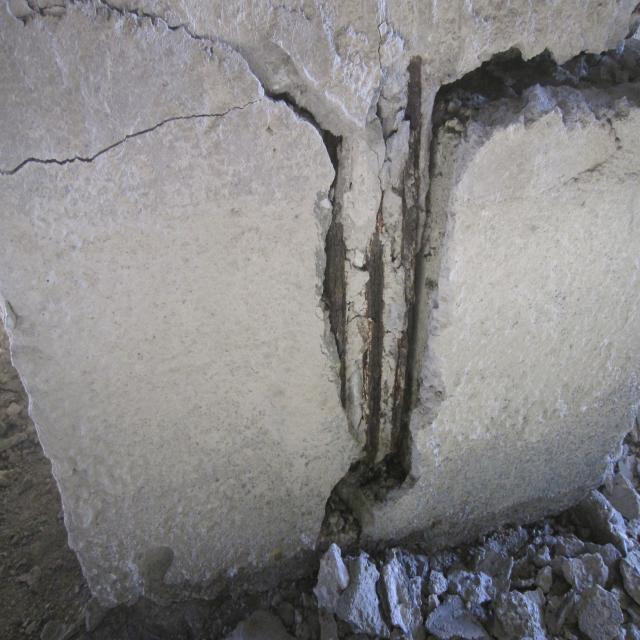corrosion: (286, 50, 446, 492)
